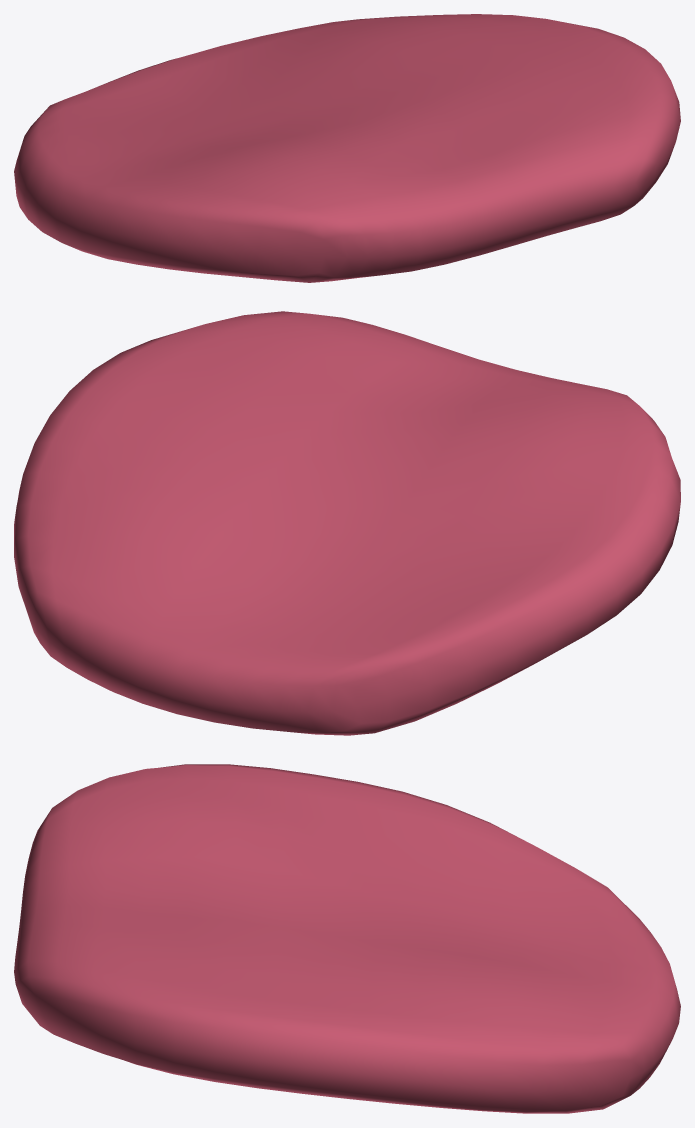
3 views of the same model, one above another, from view 1: azimuth 30°, elevation 25°; view 2: azimuth 150°, elevation 25°; view 3: azimuth 270°, elevation 25° (orthographic). The views are drawn at different scales.
Parts seen in each view (by area): view 1: 左侧髌下深囊; view 2: 左侧髌下深囊; view 3: 左侧髌下深囊.
Boxes of the visible parts, x1,y1,x2,y2 form: 左侧髌下深囊: (14, 14, 680, 282); 左侧髌下深囊: (14, 311, 680, 735); 左侧髌下深囊: (14, 764, 680, 1113).
Size of the model in its own units: 0.0255 by 0.00667 by 0.0243.
